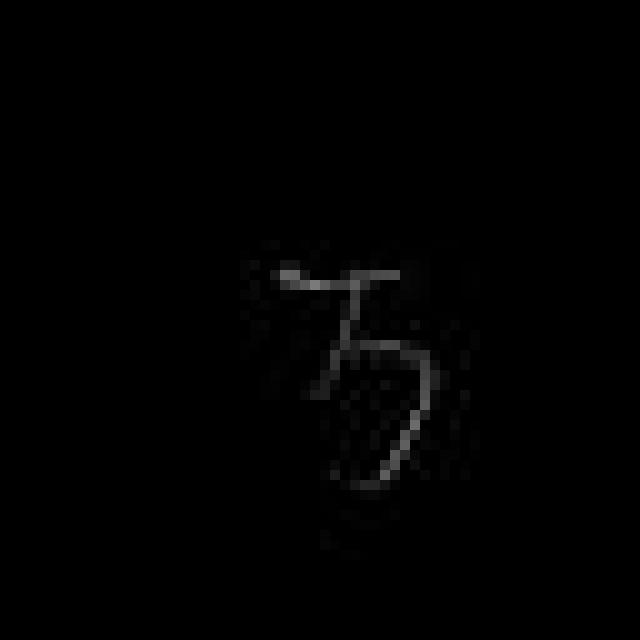10000 -a ten thousand-: (259, 247, 447, 500)
